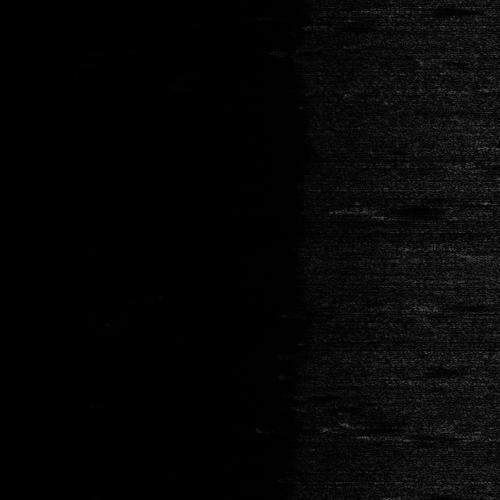object: (366, 492, 407, 499)
shadow: (387, 492, 471, 499)
